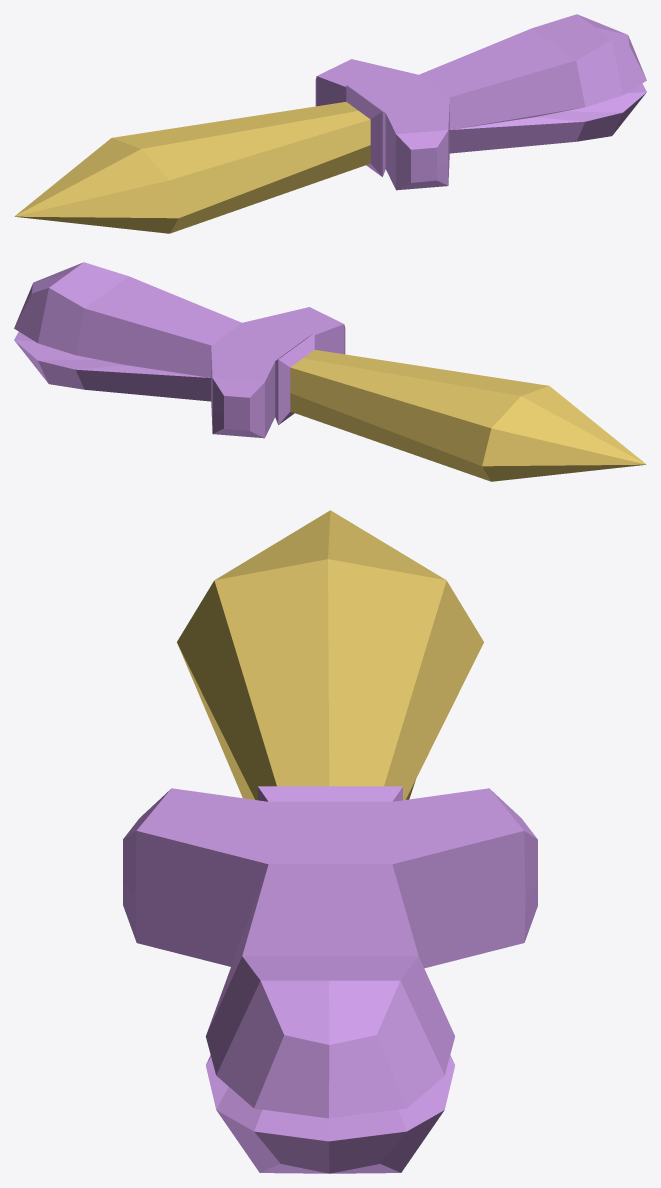
The model's file is Weapon_Dagger.fbx.
3 views of the same model, one above another, from view 1: azimuth 30°, elevation 25°; view 2: azimuth 150°, elevation 25°; view 3: azimuth 270°, elevation 25° (orthographic). The views are drawn at different scales.
Parts seen in each view (by area): view 1: Weapon_Dagger; view 2: Weapon_Dagger; view 3: Weapon_Dagger.
Part boxes in pixels (x1,y1,x2,y2): Weapon_Dagger: (14,14,646,233); Weapon_Dagger: (14,262,646,481); Weapon_Dagger: (123,510,537,1173).
Size of the model in its own units: 6.24 by 0.92 by 1.8.
